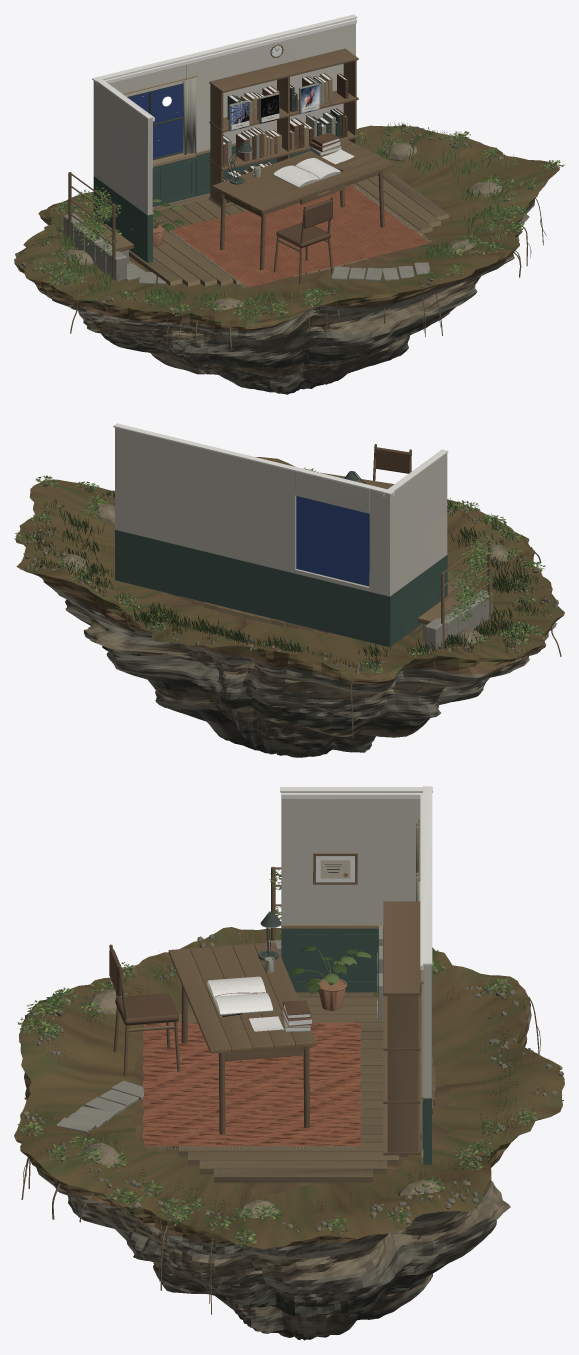
The model's file is orbit-writing-212c2a23.glb.
3 views of the same model, one above another, from view 1: azimuth 30°, elevation 25°; view 2: azimuth 150°, elevation 25°; view 3: azimuth 270°, elevation 25° (orthographic). The views are drawn at different scales.
Visible parts, largest first — view 1: Writing island · browser materials; view 2: Writing island · browser materials; view 3: Writing island · browser materials.
Boxes of the visible parts, bbox=[...] form: Writing island · browser materials: bbox=[14, 14, 564, 394]; Writing island · browser materials: bbox=[14, 423, 564, 757]; Writing island · browser materials: bbox=[14, 786, 564, 1340].
Size of the model in its own units: 12.01 by 7.17 by 8.14.
34 materials, 3 textured.
